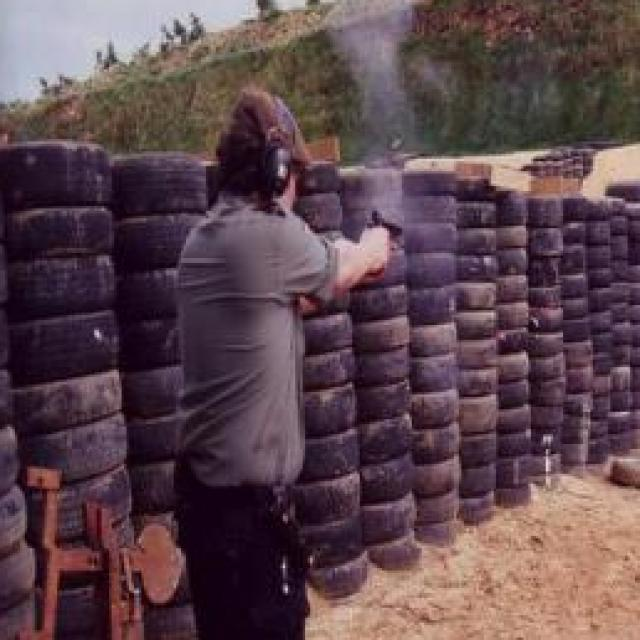pistol: (357, 198, 406, 276)
